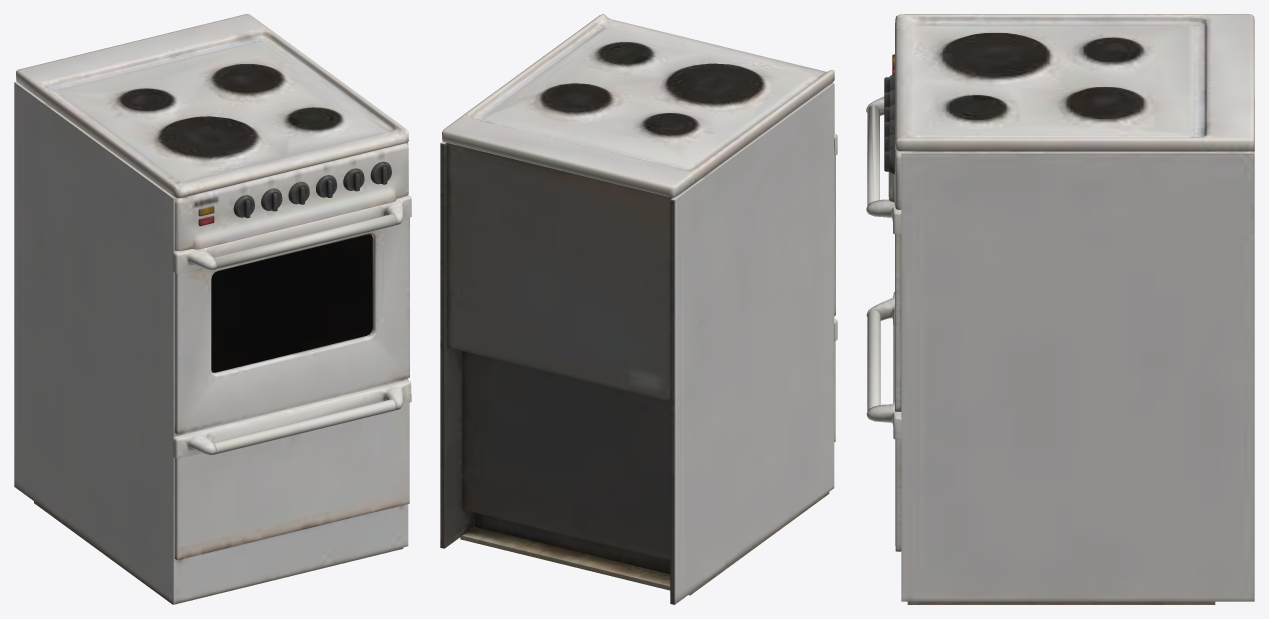
Rendered from electric_stove.glb.
The picture shows the model from 3 angles, left to right: view 1: azimuth 30°, elevation 25°; view 2: azimuth 150°, elevation 25°; view 3: azimuth 270°, elevation 25°; orthographic projection. The views are drawn at different scales.
Visible parts, largest first — view 1: stovetop, door_top, handle_bottom_attachment; view 2: stovetop; view 3: stovetop, handle_bottom_attachment, door_top.
Part boxes in pixels (x1,y1,x2,y2): stovetop: (14, 14, 408, 604); door_top: (173, 195, 411, 433); handle_bottom_attachment: (173, 380, 411, 559); stovetop: (440, 14, 834, 604); stovetop: (888, 14, 1254, 604); handle_bottom_attachment: (866, 291, 901, 551); door_top: (866, 96, 901, 411).
Size of the model in its own units: 0.5026 by 0.8587 by 0.6476.
2 materials, 2 textured.
